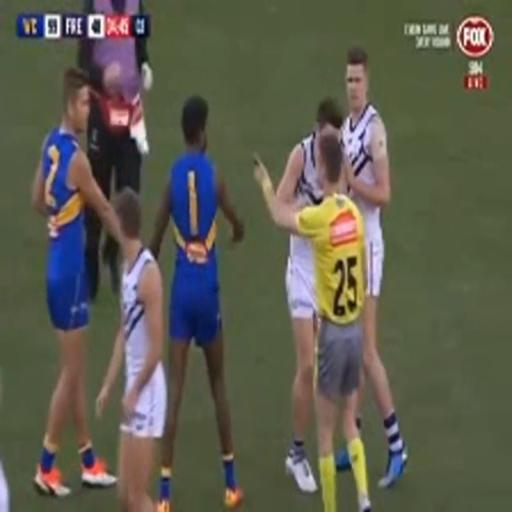nao-violencia: (240, 60, 390, 512)
